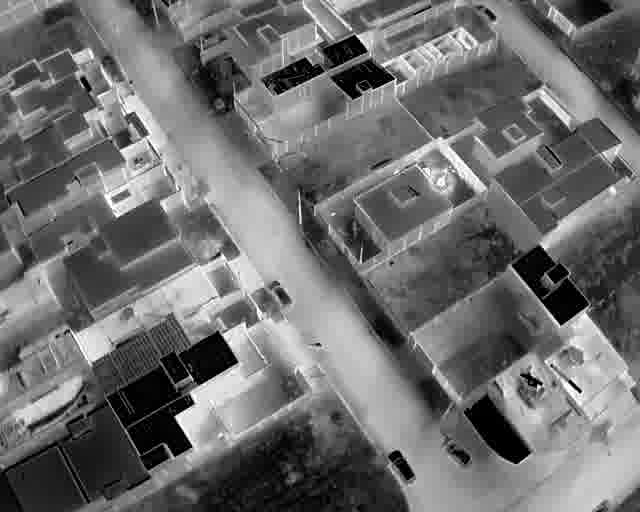car: (388, 449, 416, 485), (267, 279, 293, 310), (445, 441, 473, 467), (474, 3, 498, 24), (194, 32, 218, 49), (590, 500, 611, 512)
motorcycle: (307, 342, 323, 349)
